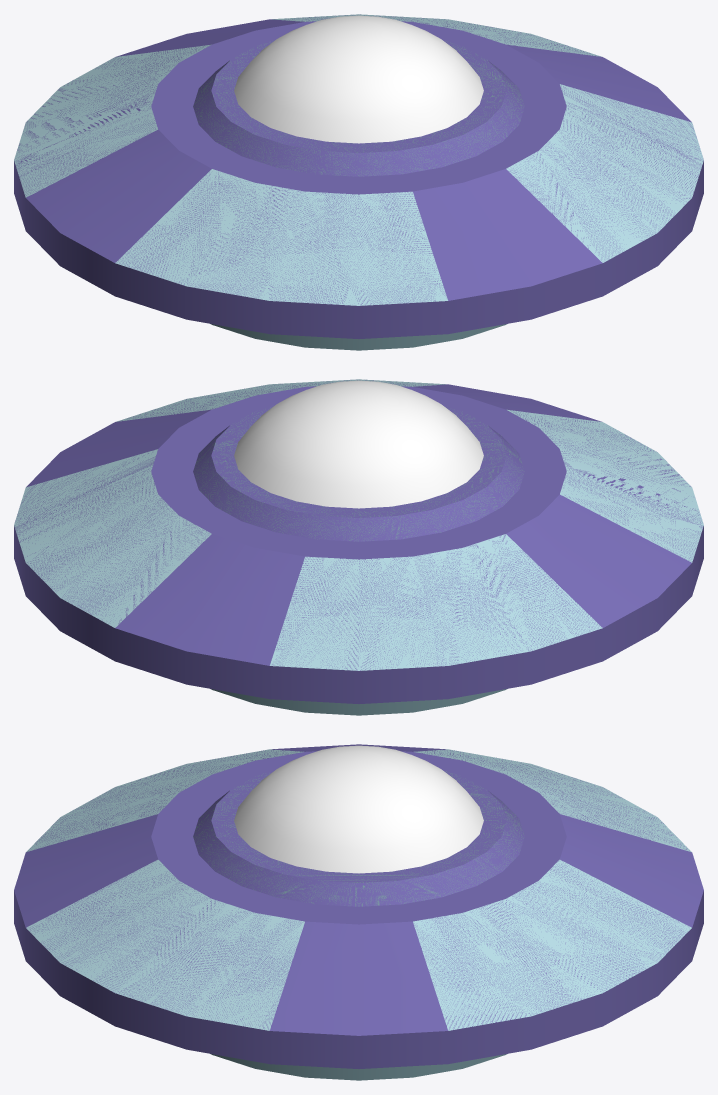
The model's file is enemy_ufoPurple.dae.
The picture shows the model from 3 angles, top to bottom: view 1: azimuth 30°, elevation 25°; view 2: azimuth 150°, elevation 25°; view 3: azimuth 270°, elevation 25°; orthographic projection.
Parts seen in each view (by area): view 1: enemy_ufoPurple; view 2: enemy_ufoPurple; view 3: enemy_ufoPurple.
Part boxes in pixels (x1,y1,x2,y2): enemy_ufoPurple: (14,14,703,350); enemy_ufoPurple: (14,379,703,715); enemy_ufoPurple: (14,744,703,1080).
Size of the model in its own units: 1 by 0.3712 by 1.
